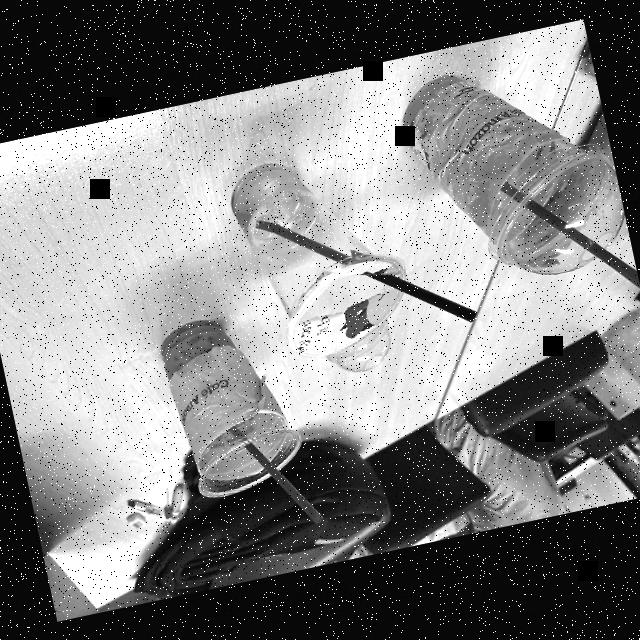plastic_cup: (368, 44, 635, 312), (215, 133, 418, 363), (143, 296, 321, 516)
plastic_cup_lid: (475, 140, 637, 308), (321, 322, 401, 386)
straw: (254, 179, 486, 364), (506, 163, 640, 318), (236, 429, 336, 540)
